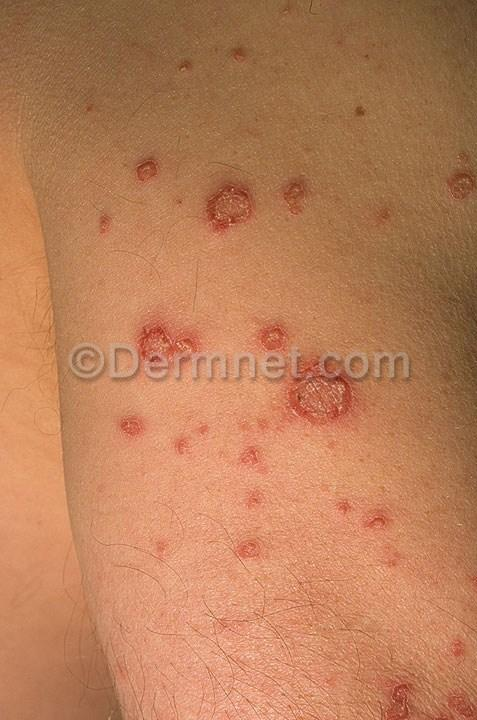Eczema: (80, 291, 385, 514), (102, 109, 348, 265), (123, 20, 293, 104), (390, 133, 477, 279), (217, 521, 299, 636), (346, 501, 432, 610), (355, 646, 477, 720)
